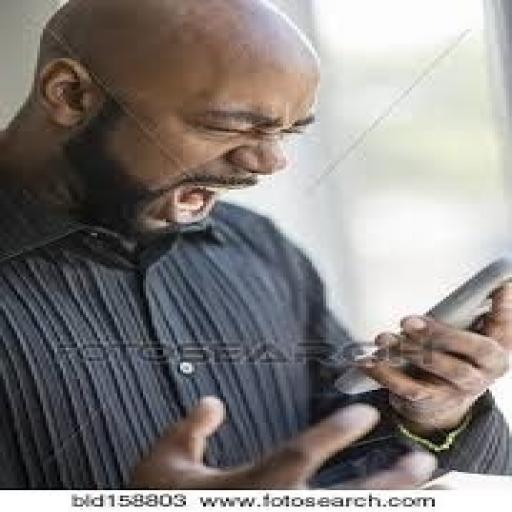texting: (0, 0, 509, 488)
